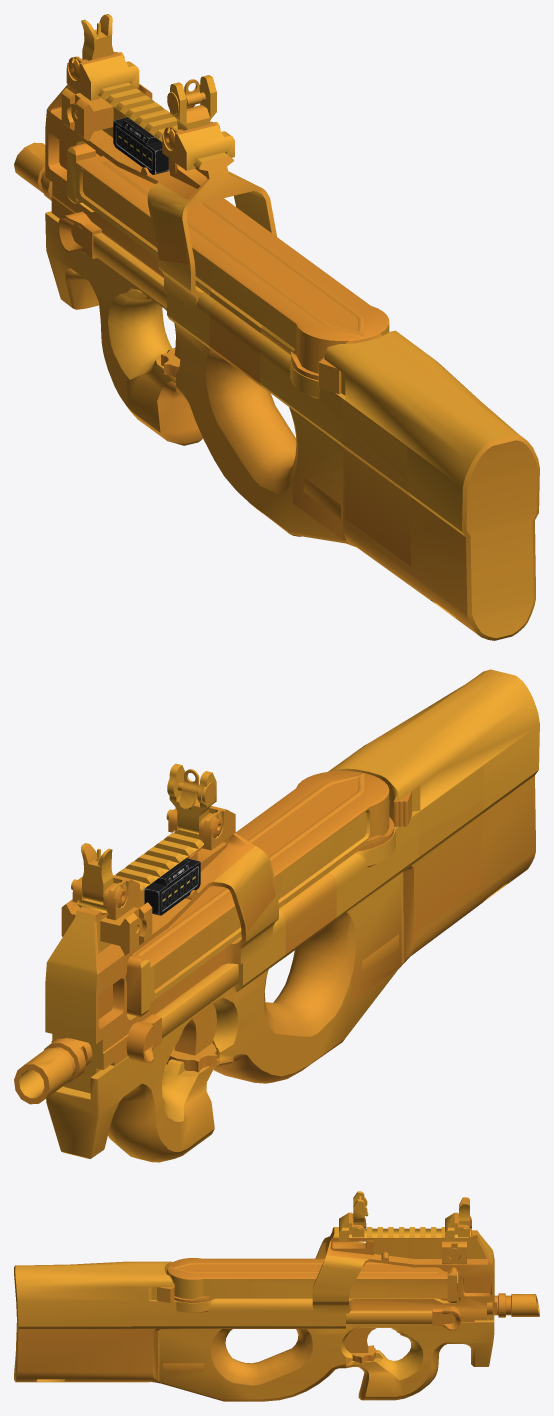
3 views of the same model, one above another, from view 1: azimuth 30°, elevation 25°; view 2: azimuth 150°, elevation 25°; view 3: azimuth 270°, elevation 25° (orthographic). The views are drawn at different scales.
Visible parts, largest first — view 1: LOD_Template.001, Magazine1.001, Sticker4, Sticker2, Sticker3, Gunlock1.001, StatTrack.003, Sticker1; view 2: LOD_Template.001, Magazine1.001, Sticker4, Sticker2, Sticker3, Gunlock1.001, StatTrack.003, Sticker1; view 3: LOD_Template.001, Magazine1.001, Gunlock1.001.
Part boxes in pixels (x1,y1,x2,y2): LOD_Template.001: (14,14,539,640); Magazine1.001: (67,143,389,380); Sticker4: (341,399,410,565); Sticker2: (209,264,266,386); Sticker3: (292,411,343,539); Gunlock1.001: (58,211,166,308); StatTrack.003: (113,117,169,174); Sticker1: (151,201,187,264); LOD_Template.001: (14,669,539,1162); Magazine1.001: (125,771,394,1016); Sticker4: (415,766,484,932); Sticker2: (279,835,336,958); Sticker3: (347,874,401,1002); Gunlock1.001: (126,963,238,1063); StatTrack.003: (144,858,200,915); Sticker1: (238,849,275,931); LOD_Template.001: (14,1191,539,1401); Magazine1.001: (166,1258,457,1302); Gunlock1.001: (346,1306,461,1330).
Size of the model in its own units: 0.0807 by 0.3113 by 0.7347.
6 materials, 6 textured.
